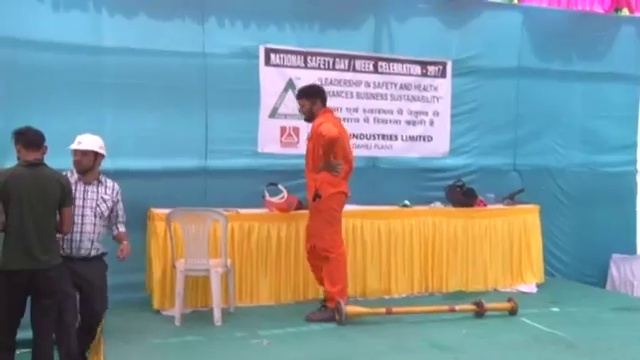helmet: (65, 131, 108, 158)
helmet_off: (11, 126, 50, 165), (295, 83, 330, 125)
helmet_on: (65, 130, 107, 178)
person: (60, 128, 131, 360), (1, 123, 69, 360), (291, 80, 349, 325)
